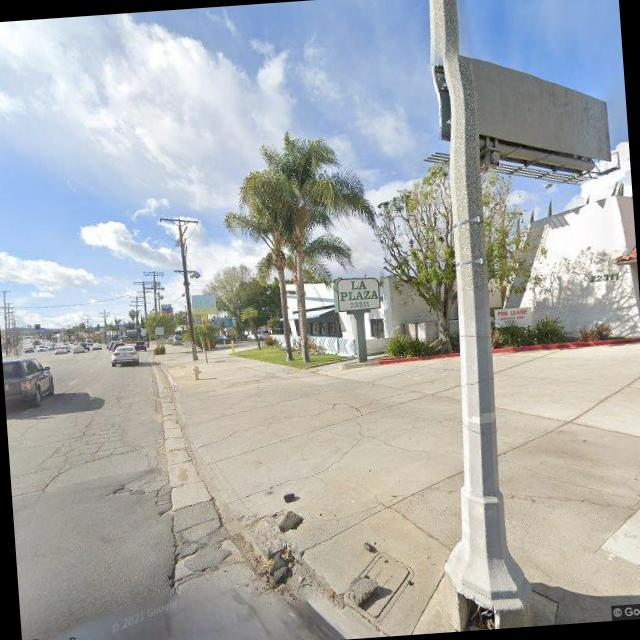crack: (5, 403, 158, 501)
